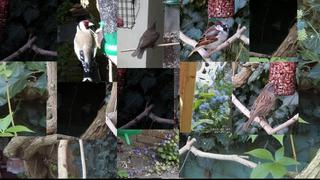dunnock: (242, 82, 278, 131)
goldfinch: (74, 20, 97, 82)
sparrow: (187, 20, 229, 58)
starling: (131, 20, 160, 59)
